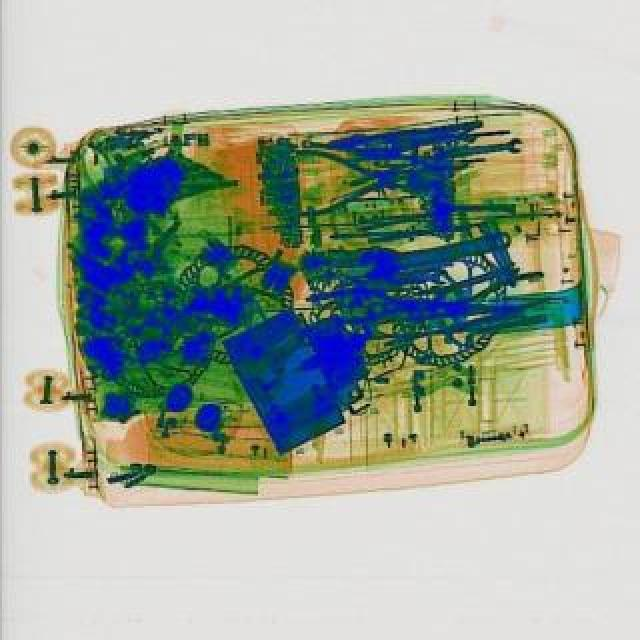scissors: (354, 228, 514, 286), (436, 138, 522, 168)
wrench: (284, 150, 396, 220)
